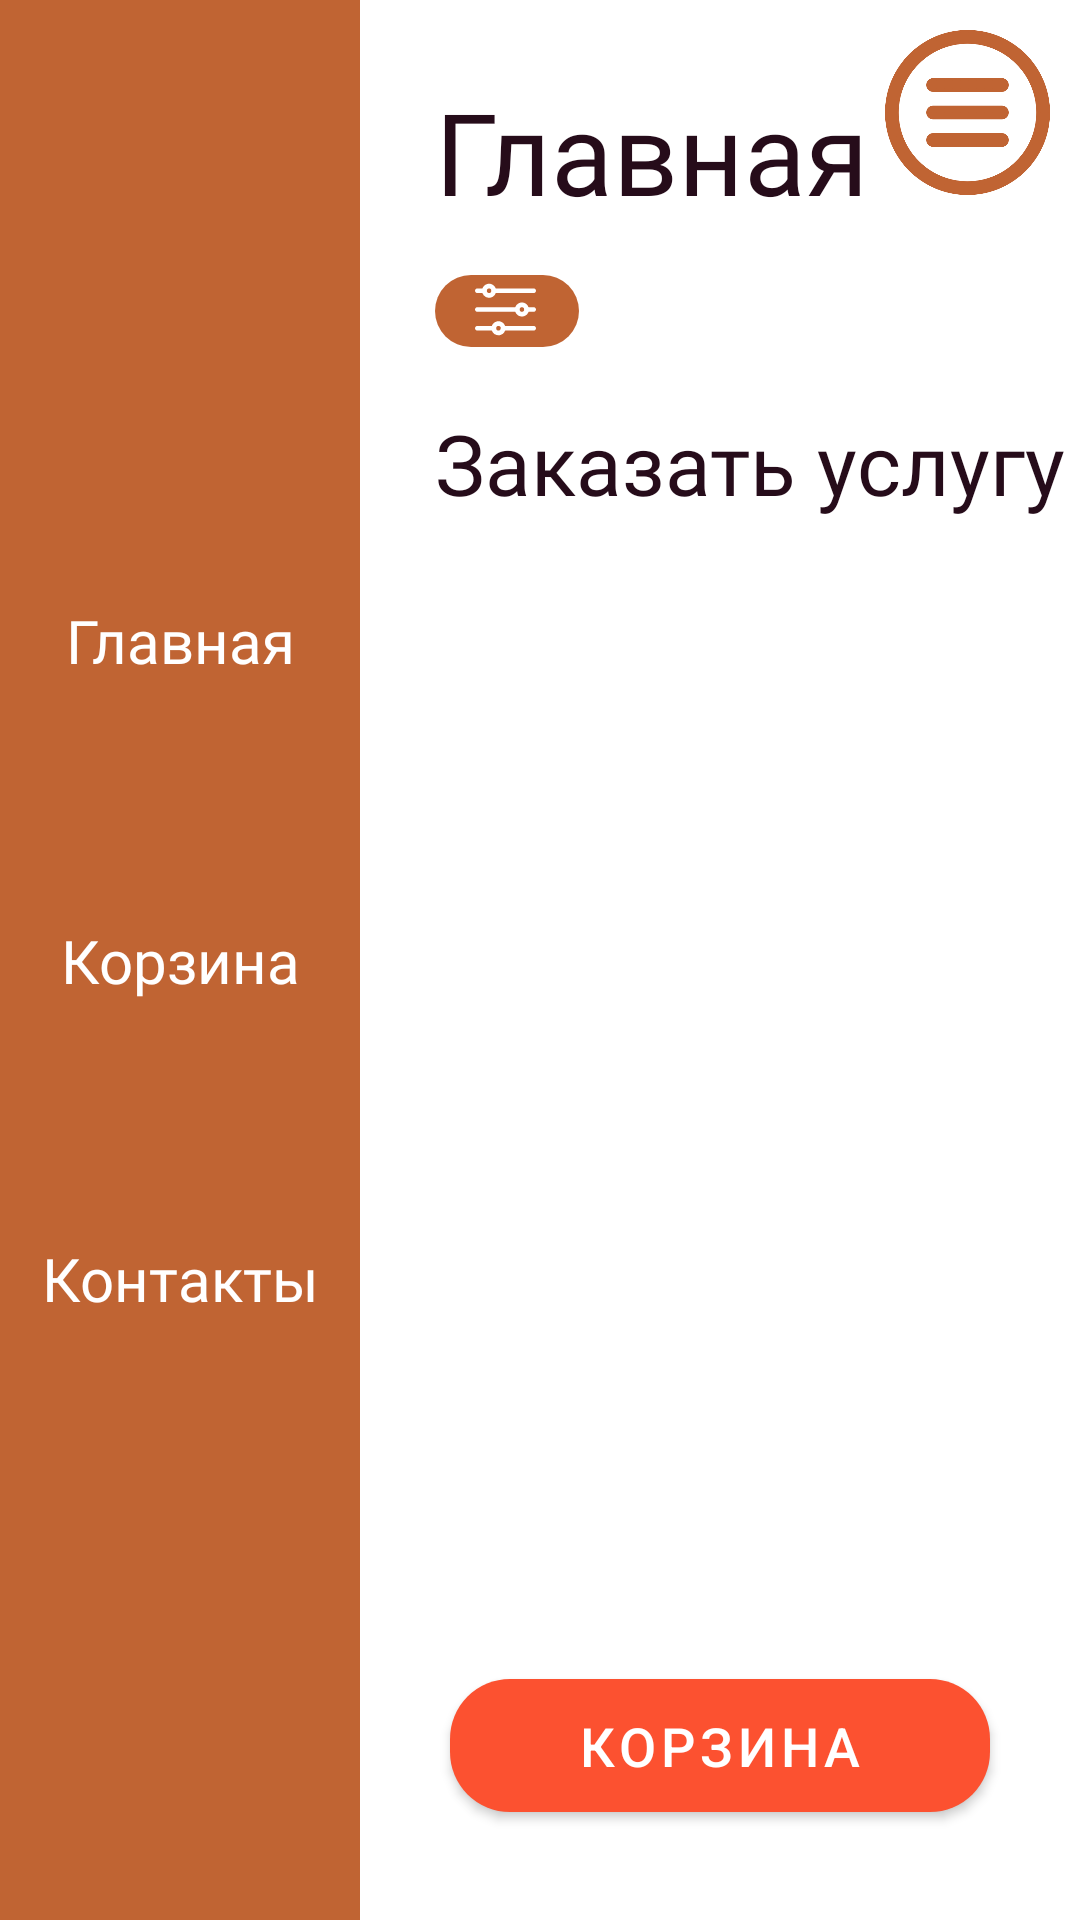

Named icons in this screenshot (1080px x 1920px) and their bounding boxes, (x1, y1, x2, y2):
filter: (435, 275, 579, 347)
menu: (885, 30, 1050, 195)
